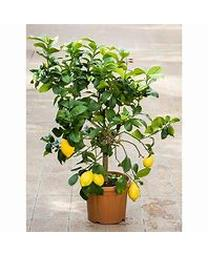lemon: (61, 137, 75, 158), (80, 171, 94, 187), (128, 184, 139, 201), (93, 172, 104, 186), (143, 156, 153, 167)
